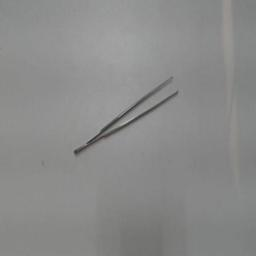Gillies Toothed Dissector: (72, 69, 184, 157)
